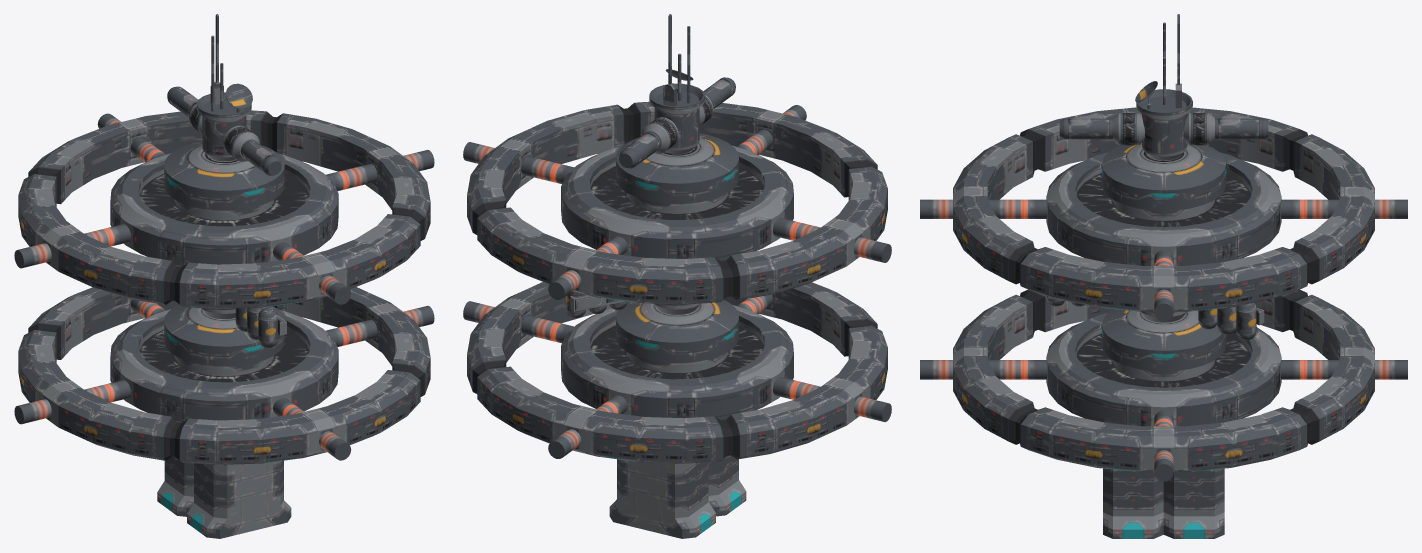
The model's file is StationC_sm.gltf.
3 views of the same model, side by side, from view 1: azimuth 30°, elevation 25°; view 2: azimuth 150°, elevation 25°; view 3: azimuth 270°, elevation 25° (orthographic). The views are drawn at different scales.
Parts seen in each view (by area): view 1: SpaceStation6; view 2: SpaceStation6; view 3: SpaceStation6.
Boxes of the visible parts, bbox=[...] form: SpaceStation6: bbox=[14, 14, 434, 538]; SpaceStation6: bbox=[463, 14, 891, 538]; SpaceStation6: bbox=[920, 14, 1407, 538].
Size of the model in its own units: 88.87 by 101 by 88.87.
Materials: 1 (1 with a texture image).
